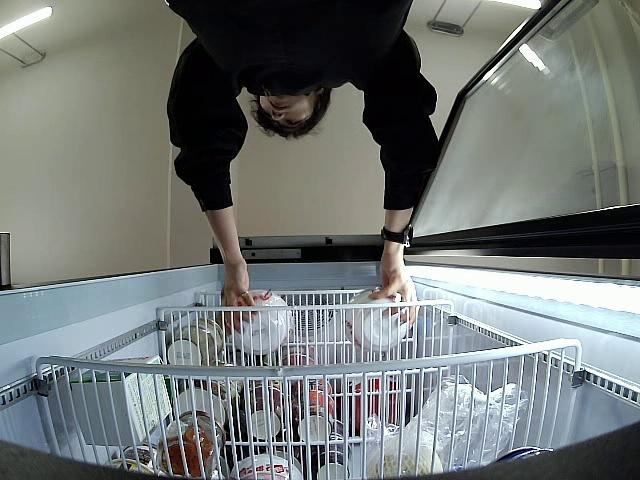00_hand: (371, 249, 419, 328), (221, 255, 258, 336)
09_yukGaeJang: (343, 287, 409, 352), (231, 289, 293, 353)
